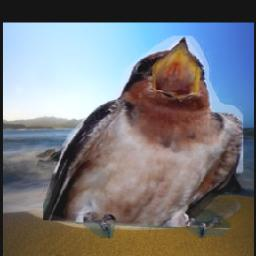Swallow: (43, 36, 243, 238)
